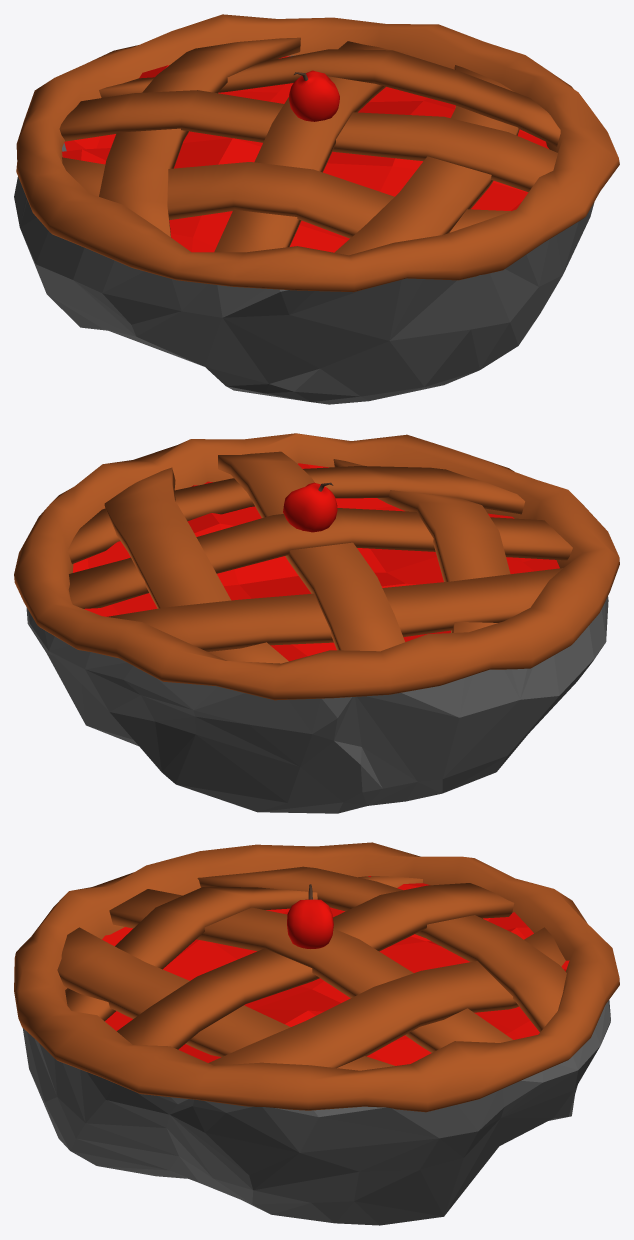
The model's file is Autonomous_Pie.fbx.
3 renders of one model, top to bottom at view 1: azimuth 30°, elevation 25°; view 2: azimuth 150°, elevation 25°; view 3: azimuth 270°, elevation 25°, orthographic.
Visible parts, largest first — view 1: 동물농장 파이_돌그릇; view 2: 동물농장 파이_돌그릇; view 3: 동물농장 파이_돌그릇.
Boxes of the visible parts, box(x1,y1,x2,y2) form: 동물농장 파이_돌그릇: box(14, 14, 619, 404); 동물농장 파이_돌그릇: box(14, 433, 619, 813); 동물농장 파이_돌그릇: box(14, 842, 619, 1225).
Bounding box in the file's own units: 210 × 105 × 209.
